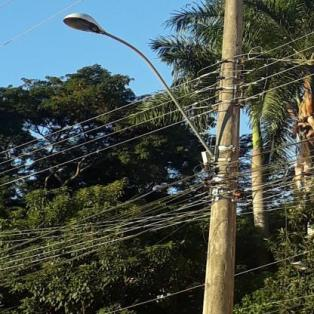Poste: (191, 0, 260, 314)
